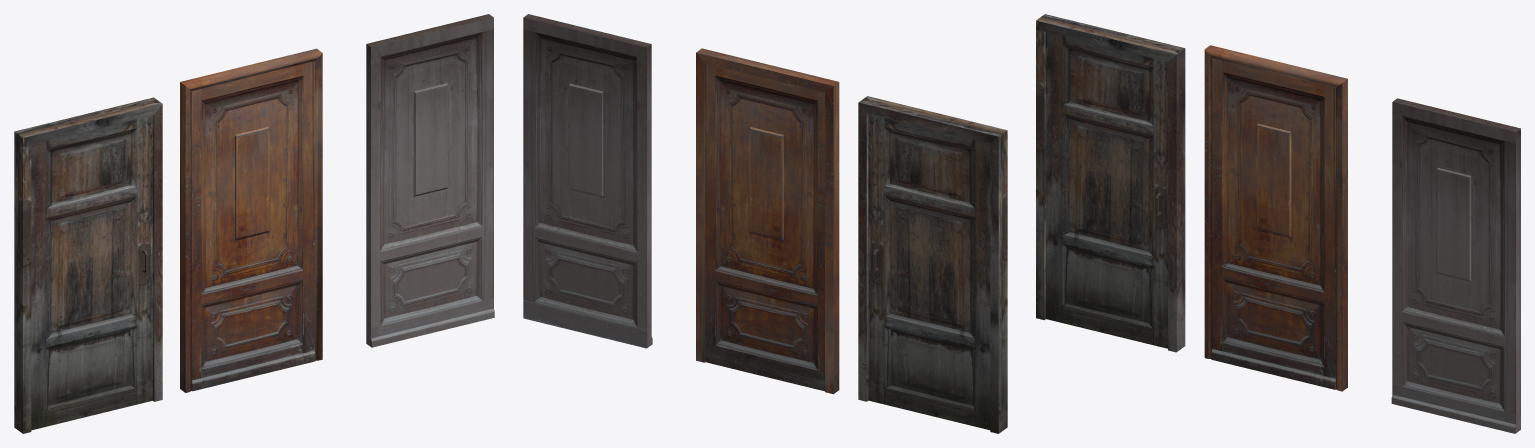
File: Doors_2.fbx
The picture shows the model from 3 angles, left to right: view 1: azimuth 30°, elevation 25°; view 2: azimuth 150°, elevation 25°; view 3: azimuth 330°, elevation 25°; orthographic projection.
Visible parts, largest first — view 1: Door_1, Door_2, Door_3, Door_case_2, Door_case_1; view 2: Door_1, Door_2, Door_3, Door_case_2, Door_case_1; view 3: Door_1, Door_2, Door_3, Door_case_2, Door_case_1.
Part boxes in pixels (x1,y1,x2,y2): Door_1: (366, 14, 494, 347); Door_2: (191, 61, 315, 391); Door_3: (31, 115, 152, 430); Door_case_2: (14, 97, 162, 433); Door_case_1: (180, 48, 322, 392); Door_1: (523, 14, 652, 348); Door_2: (705, 63, 824, 391); Door_3: (868, 114, 990, 430); Door_case_2: (858, 96, 1007, 433); Door_case_1: (696, 48, 839, 394); Door_1: (1391, 98, 1520, 433); Door_2: (1211, 58, 1335, 389); Door_3: (1046, 32, 1167, 348); Door_case_2: (1036, 14, 1185, 352); Door_case_1: (1204, 45, 1347, 391).
Size of the model in its own units: 1.34 by 0.8268 by 0.0629.
